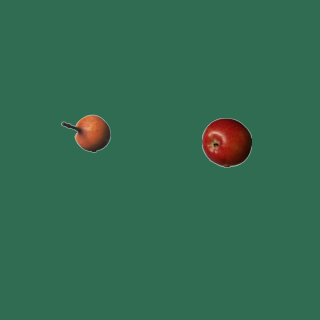Apple Braeburn: (201, 117, 251, 167)
Granadilla: (60, 108, 110, 158)
